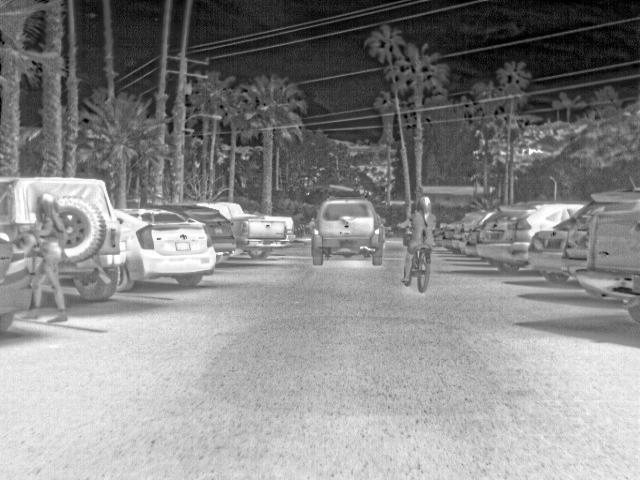car: (54, 175, 120, 302), (122, 206, 218, 290), (476, 201, 590, 271), (572, 207, 640, 324), (309, 198, 384, 268), (197, 200, 298, 242), (168, 206, 235, 264), (528, 215, 575, 285), (1, 244, 36, 333), (232, 216, 287, 262), (440, 209, 483, 253), (4, 175, 34, 223)
person: (36, 194, 70, 324), (399, 195, 436, 283)
